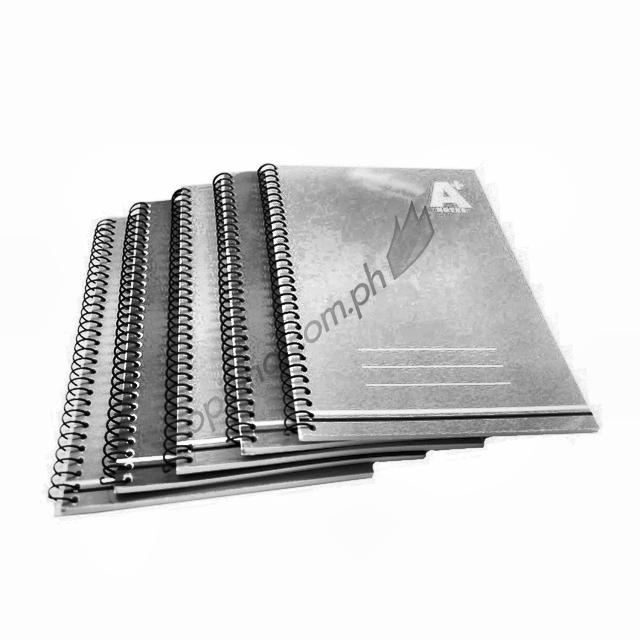Notebook: (36, 134, 608, 570)
